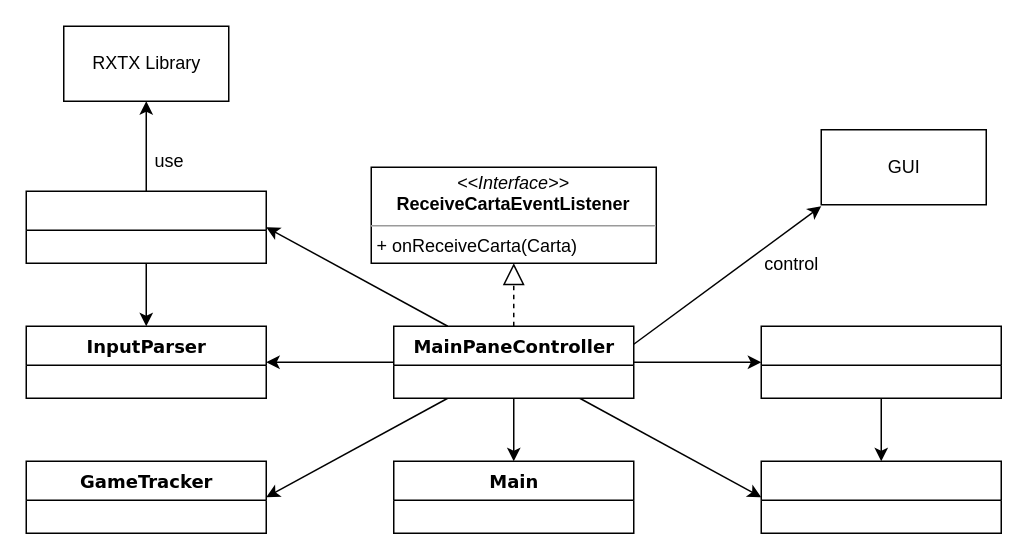
This 1028x560 diagram has some shape labels left out. The shapes that lost their labels are listed below. From the top down, each one's box as (x1, y1, x2, y2) in pixels, then its label:
(25, 190, 266, 263): SerialAdapter
(760, 325, 1001, 398): Mazzo
(760, 460, 1001, 533): Carta
